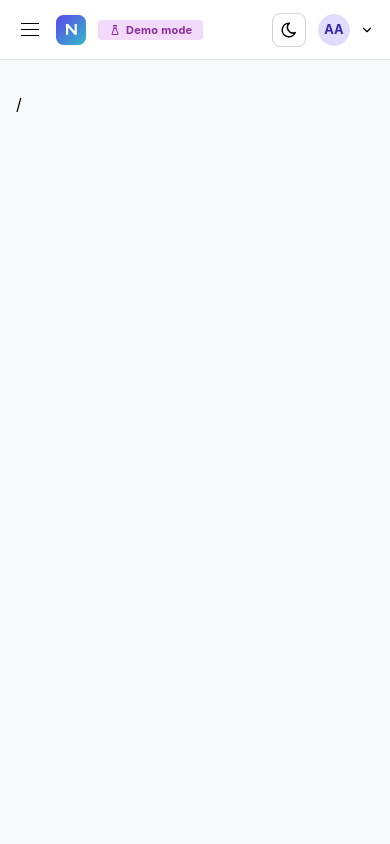
Test: <AppLayout> navigation › the burger toggles its label and a nav click closes the mobile navigation
The image size is (390, 844).
Click the button named "Open navigation" at coordinates (30, 30), box [16,16,44,44]
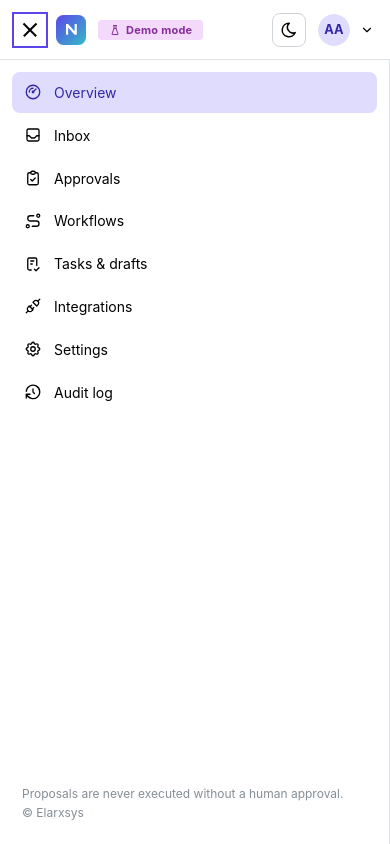
Now the button named "Close navigation" is shown, box [16,16,44,44]
Click the link "Inbox" at coordinates (57, 135), box [24,126,90,144]
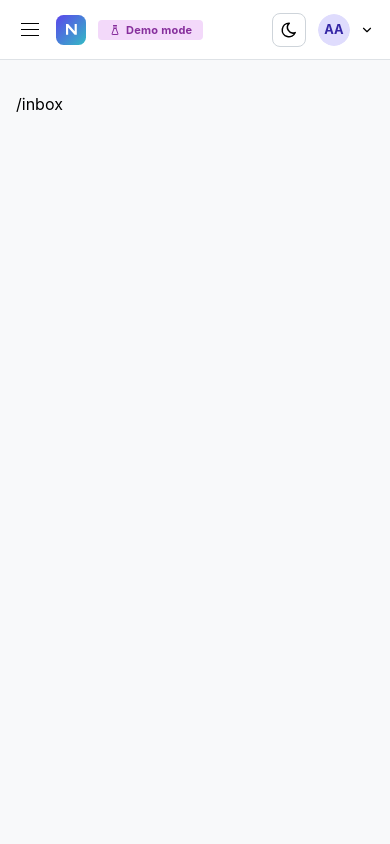
Now the button named "Open navigation" is shown, box [16,16,44,44]
